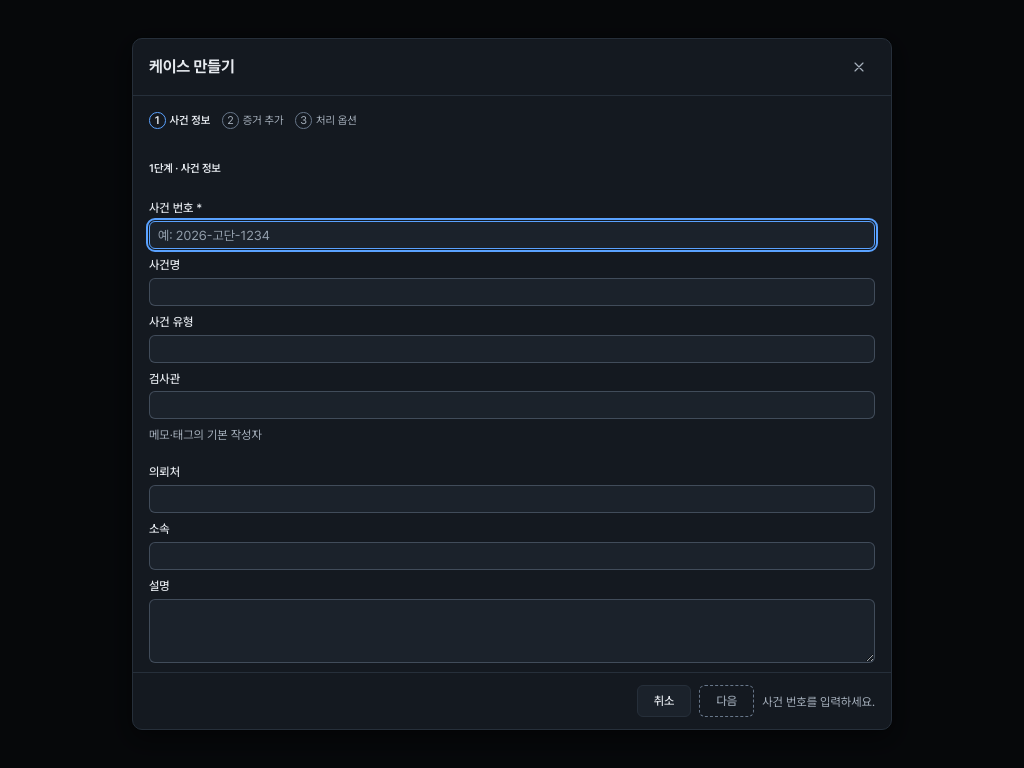
Test: review 2: register-only evidence › keeps the examiner on the evidence step when a path fails the pre-check
In the field labelled "사건 번호": (512, 235) [149,221,875,249], type "2026-1"
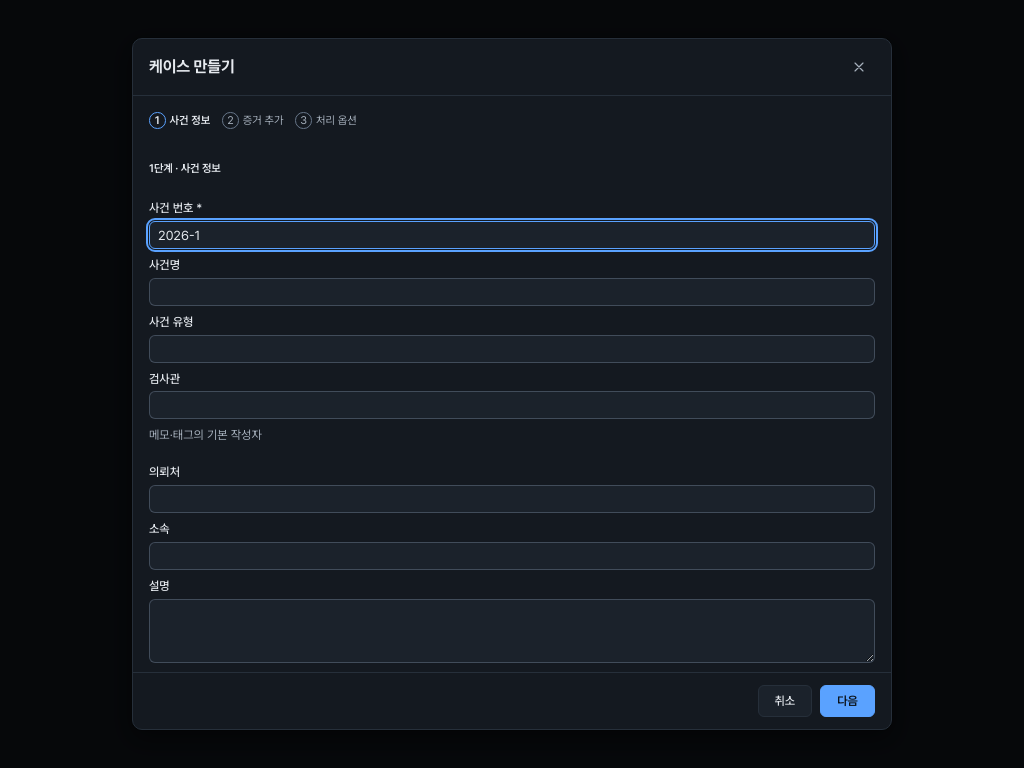
Click the button with test id "wizard-next": click(848, 701) [820,685,875,717]
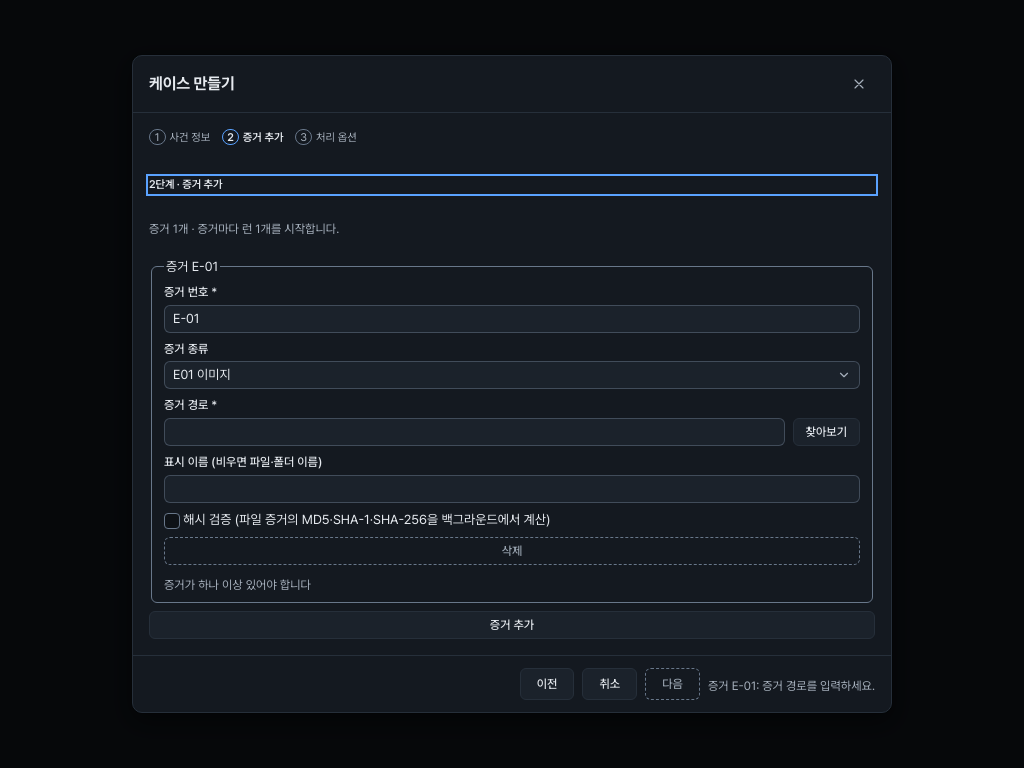
Select "폴더" in the dropdown labelled "증거 종류": (512, 375) [164,361,860,389]
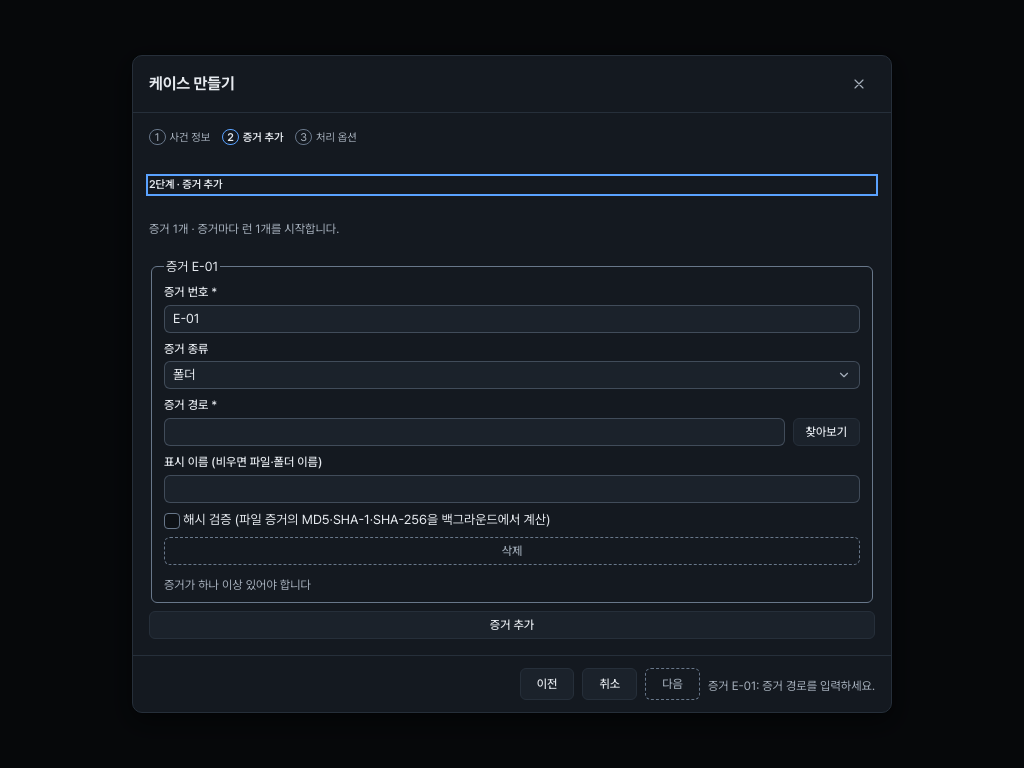
In the field labelled "증거 경로": (474, 432) [164,418,784,446], type "D:\\nope"
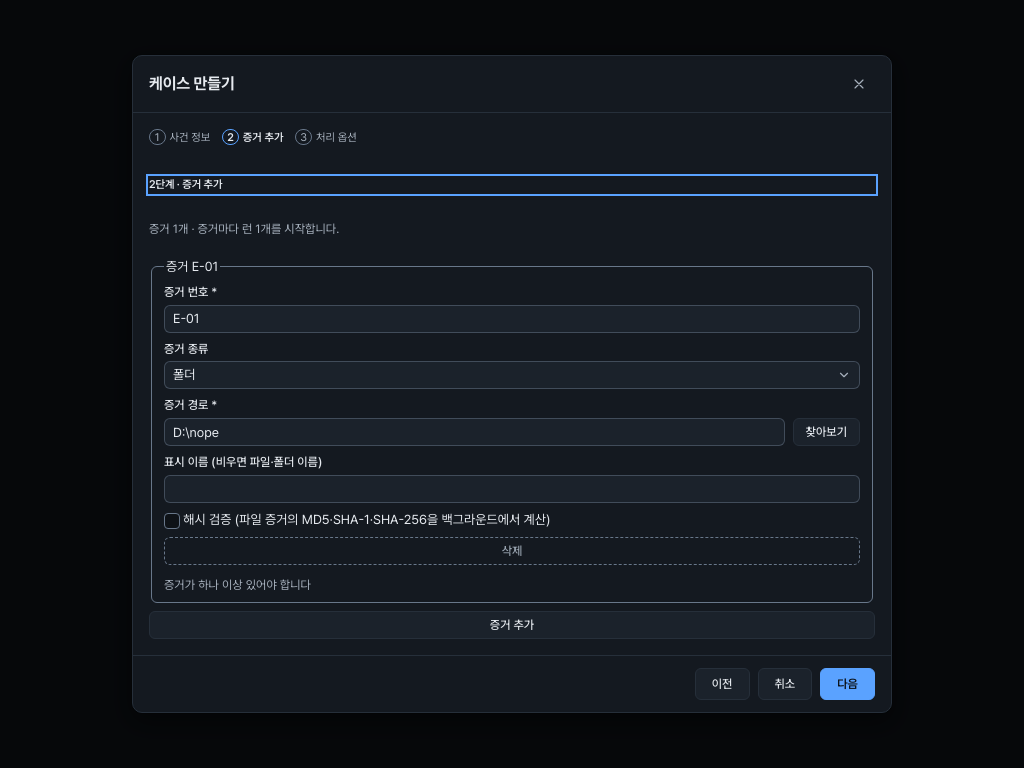
Click the button with test id "wizard-next": click(848, 684) [820,668,875,700]
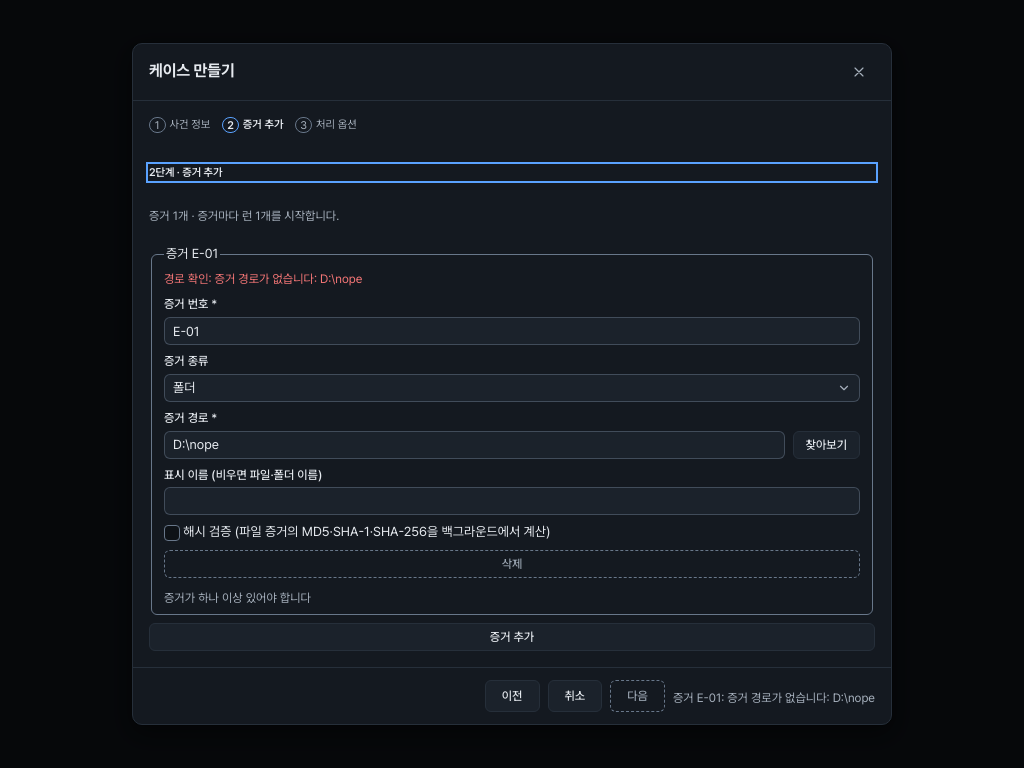
expect the element with test id "wizard-step-evidence" is shown: met, box [149,204,875,652]
expect the text "경로 확인: 증거 경로가 없습니다: D:\\nope" is shown: met, box [164,272,362,286]
